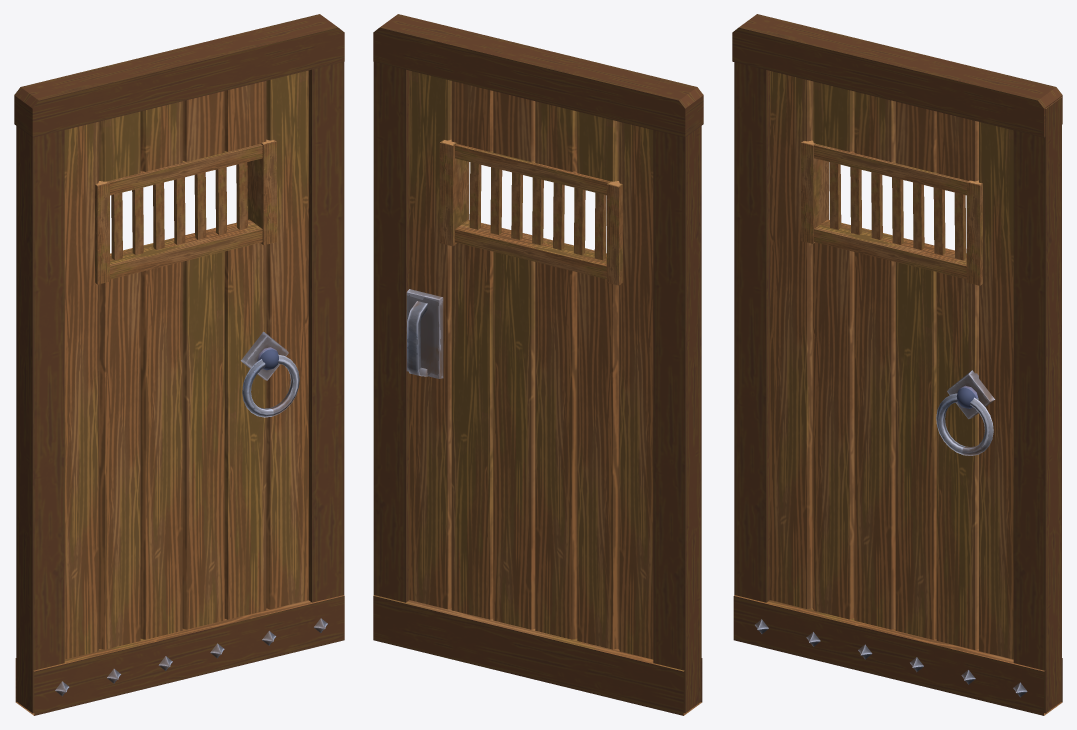
File: Door_8_Flat.obj
3 renders of one model, left to right at view 1: azimuth 30°, elevation 25°; view 2: azimuth 150°, elevation 25°; view 3: azimuth 330°, elevation 25°, orthographic.
Parts seen in each view (by area): view 1: Door_8_Flat; view 2: Door_8_Flat; view 3: Door_8_Flat.
Boxes of the visible parts, bbox=[...] form: Door_8_Flat: bbox=[14, 14, 344, 715]; Door_8_Flat: bbox=[373, 14, 703, 715]; Door_8_Flat: bbox=[732, 14, 1062, 715].
Size of the model in its own units: 1.12 by 2.1 by 0.1995.
